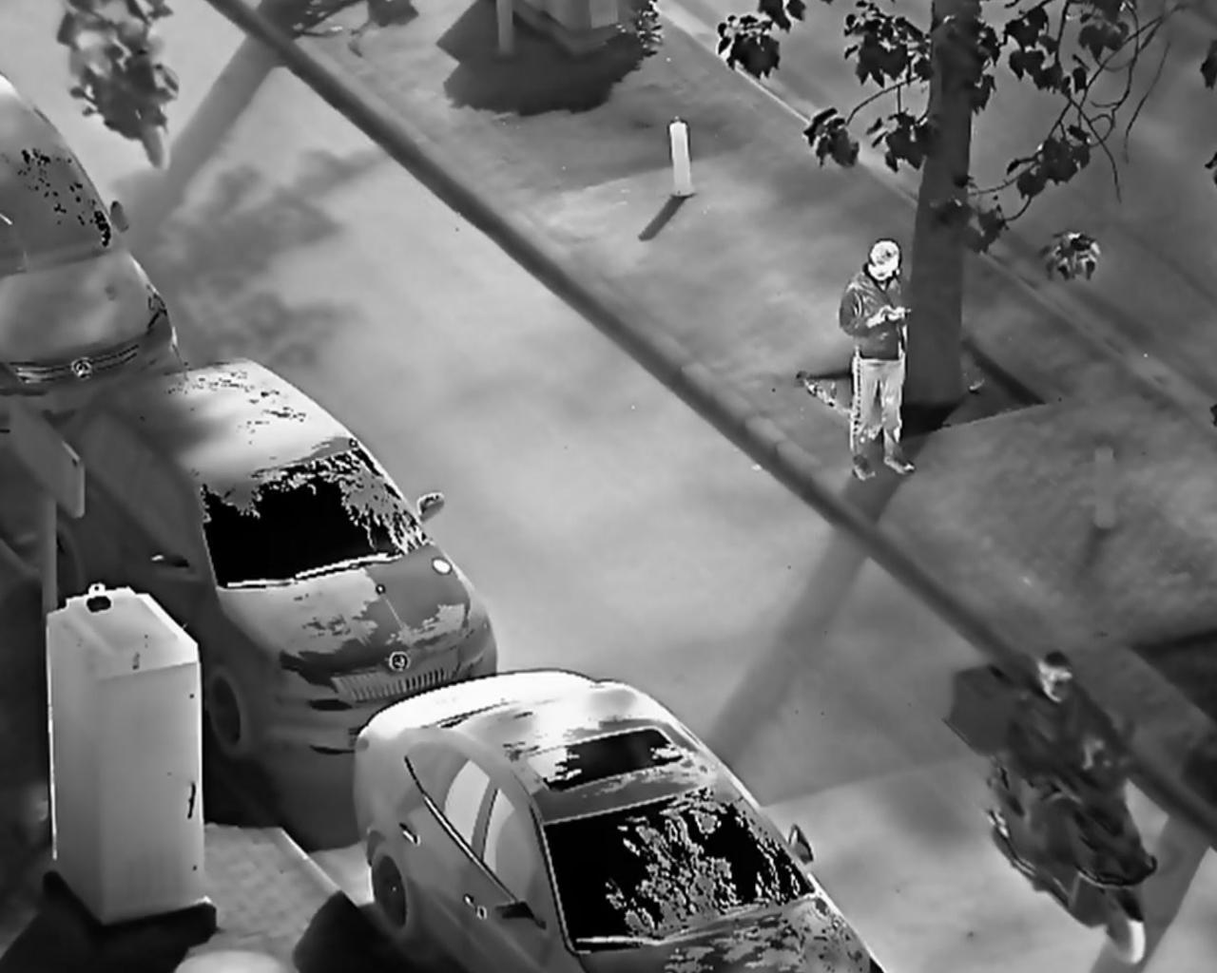person: (1009, 647, 1118, 867), (839, 234, 923, 482)
